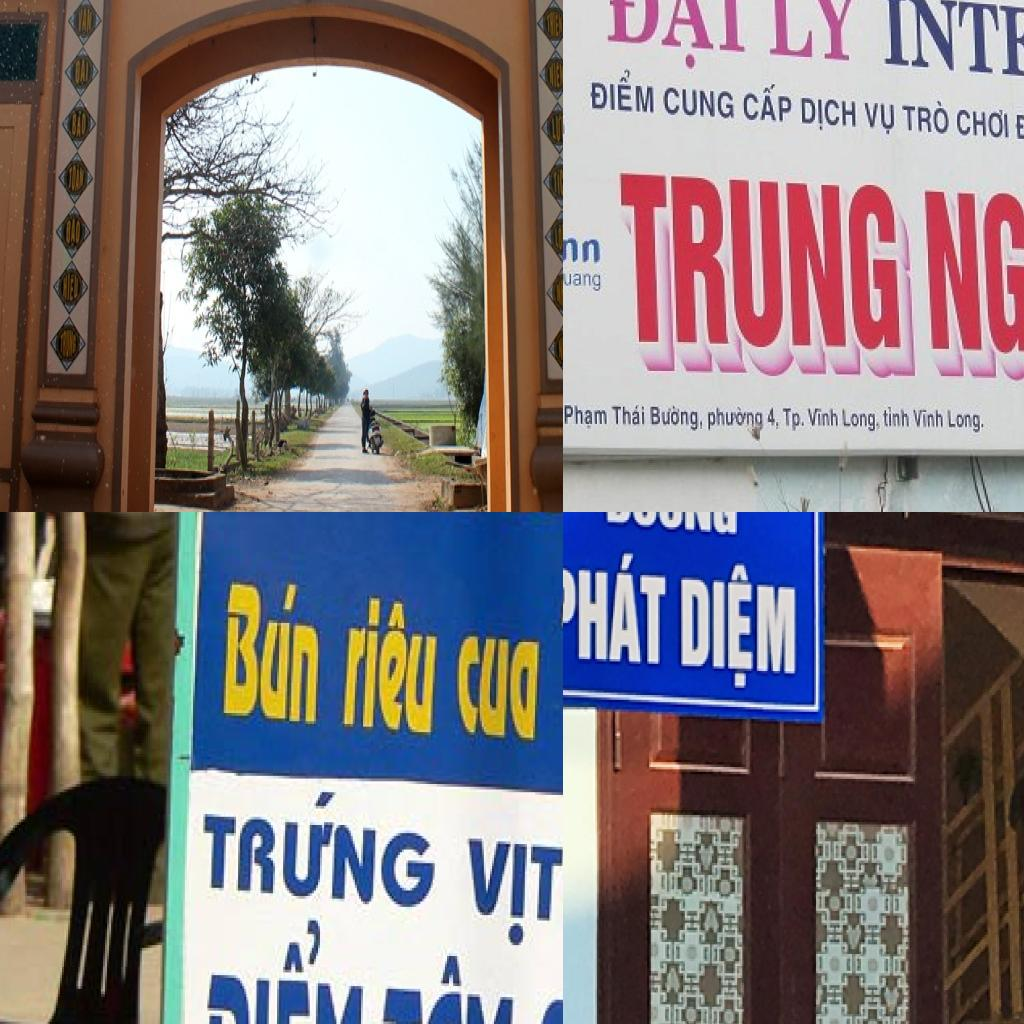text: (615, 168, 918, 383), (195, 778, 445, 918), (918, 156, 1024, 384), (212, 549, 326, 738), (190, 912, 379, 1024), (334, 584, 447, 746), (456, 606, 548, 768), (879, 0, 1024, 98), (563, 541, 668, 675), (465, 819, 563, 950), (598, 0, 750, 74), (377, 948, 524, 1024), (763, 0, 863, 65), (600, 512, 742, 544), (589, 67, 657, 117), (563, 198, 609, 270), (662, 83, 734, 120), (742, 81, 796, 127), (900, 96, 954, 139), (800, 95, 860, 132), (956, 104, 1012, 140), (649, 402, 705, 434), (703, 405, 765, 433), (563, 399, 610, 432), (863, 98, 899, 139), (839, 407, 881, 437), (944, 407, 985, 437), (563, 267, 603, 296), (613, 402, 649, 429), (909, 405, 944, 431), (805, 405, 841, 429), (781, 404, 807, 434), (881, 405, 910, 429), (64, 216, 83, 249), (70, 108, 89, 138), (73, 58, 91, 88), (66, 164, 85, 192), (765, 403, 783, 431), (77, 8, 94, 36), (546, 12, 563, 37), (548, 63, 563, 90), (551, 114, 563, 144), (551, 168, 563, 196), (554, 225, 563, 250), (556, 279, 563, 307), (558, 334, 563, 363)
